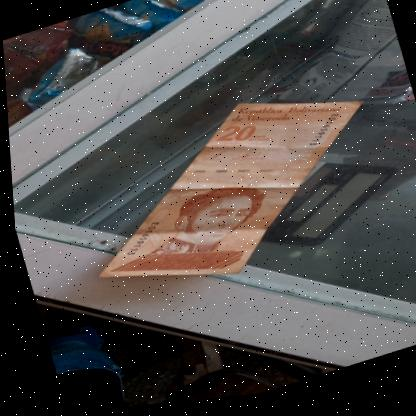twenty-front-vef: (57, 70, 398, 320)
